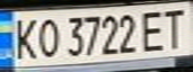2: (115, 10, 142, 56), (100, 11, 121, 56)
3: (63, 14, 84, 57)
7: (81, 12, 103, 57)
E: (136, 7, 172, 54)
K: (6, 15, 42, 61)
O: (33, 16, 60, 60)
T: (157, 4, 193, 50)
